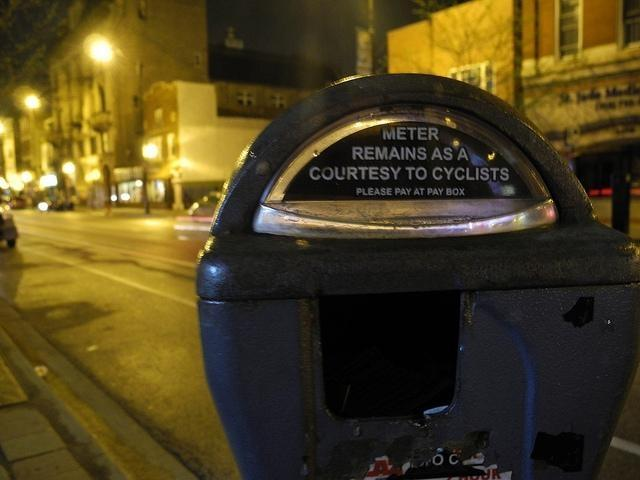car: (0, 205, 18, 249), (189, 193, 222, 216), (42, 196, 74, 212), (8, 198, 26, 208)
